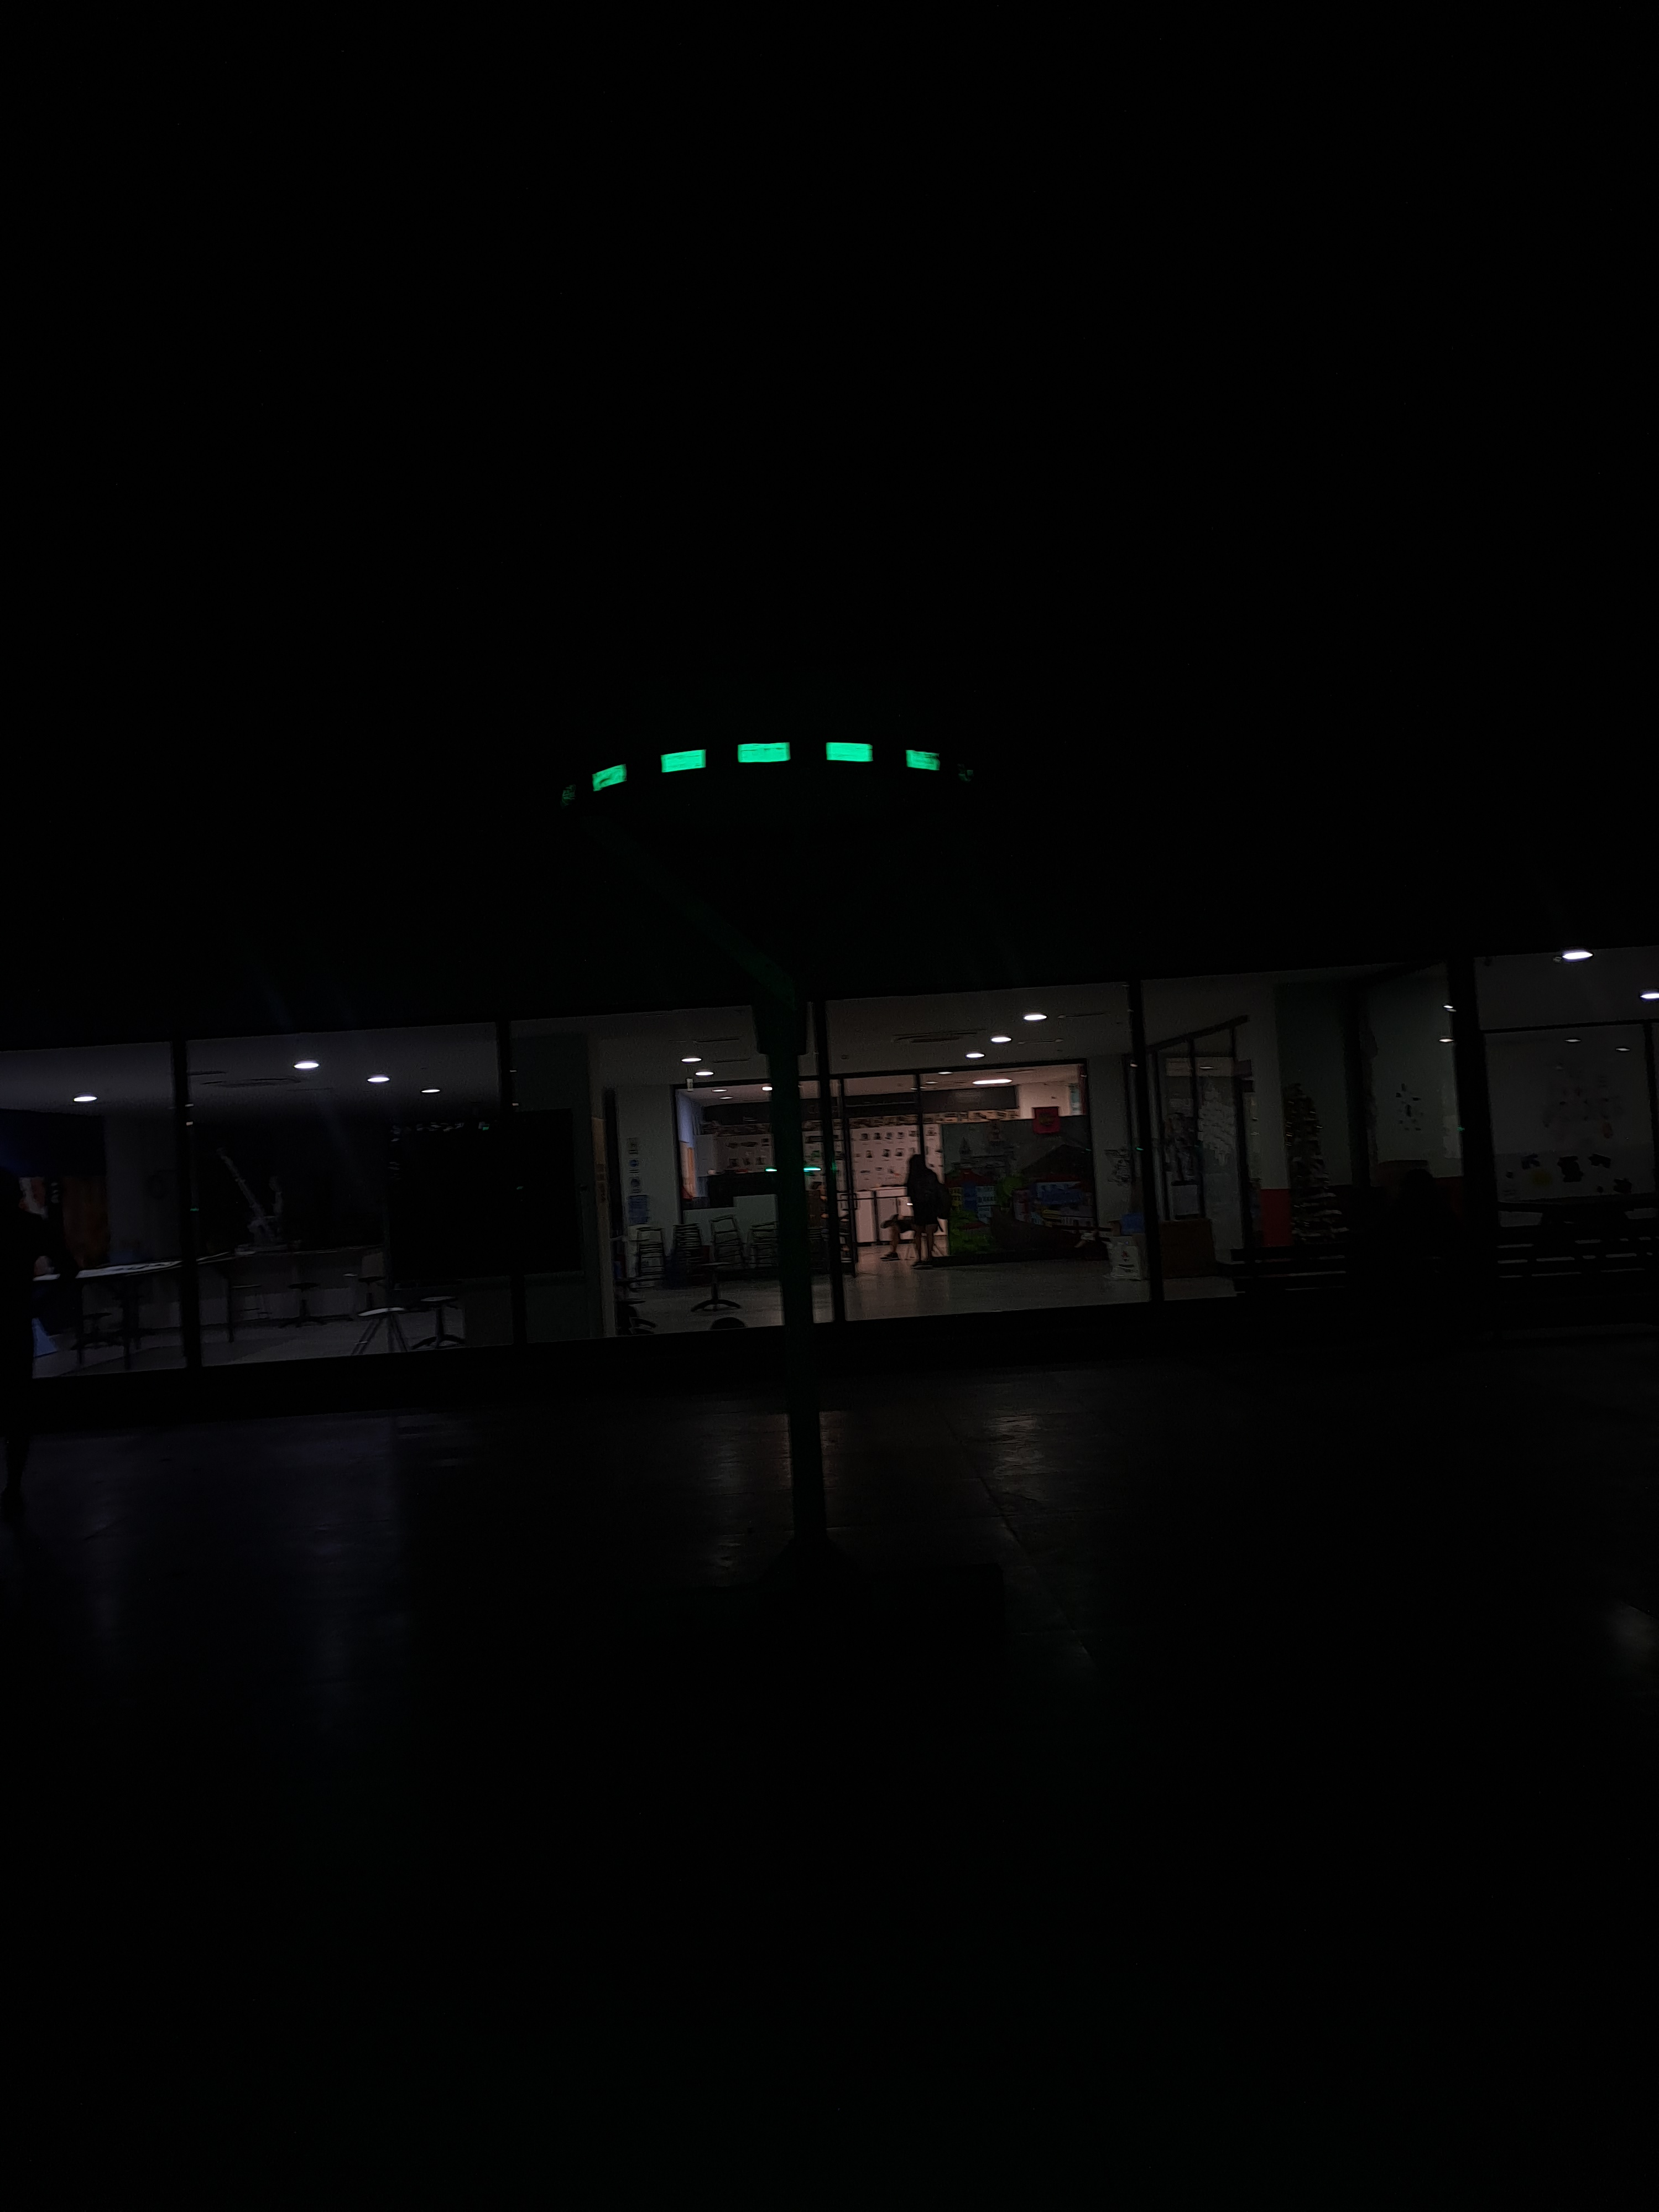hoop: (587, 737, 946, 794)
